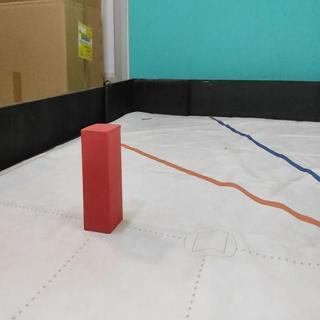redbox: (79, 123, 124, 234)
